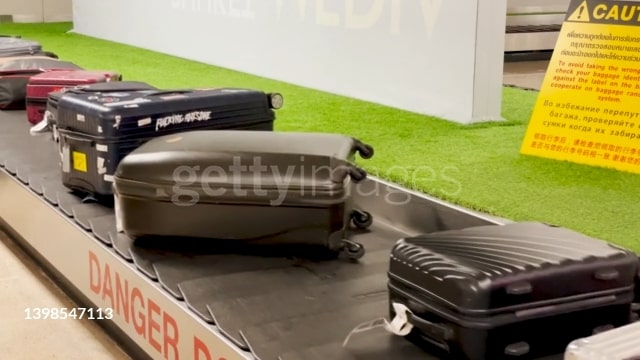baggage: (378, 214, 637, 357), (115, 128, 376, 266), (53, 87, 288, 205), (21, 60, 126, 129)
